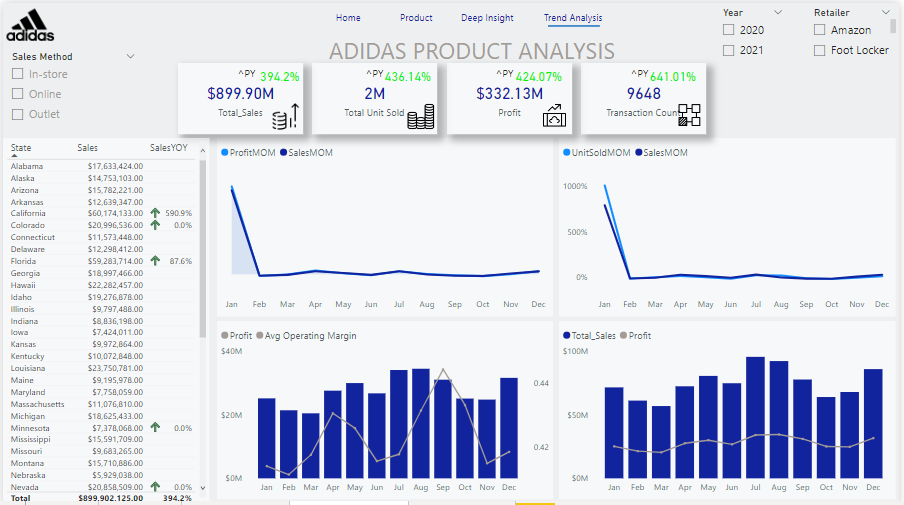

The dashboard page shown, as its layout file describes it:
{"tool":"powerbi","page":{"name":"Trend Analysis","canvas":[1280,720],"ordinal":3},"visuals":[{"type":"image","box":[0,0,78,62.4],"z":0},{"type":"group","id":"g1","title":"Group 3","box":[442.2,0,422.4,39.7],"z":0,"group":"g2"},{"type":"shape","box":[778.1,26.9,73.7,11.3],"z":1000,"group":"g2"},{"type":"slicer","fields":{"Values":["Data Sales Adidas.Sales Method"]},"box":[0,62.4,201.3,127.6],"z":1000},{"type":"group","id":"g2","title":"Group 4","box":[442.2,0,422.4,39.7],"z":2000},{"type":"textbox","box":[442.2,39.7,455,58.1],"z":3000},{"type":"areaChart","title":"Sales by Product","fields":{"Category":["Calendar.Month"],"Y":["Data Sales Adidas.ProfitMOM","Data Sales Adidas.SalesMOM"]},"box":[306.1,192.8,480.5,255.1],"z":4000},{"type":"lineChart","title":"Sales by State","fields":{"Y":["Data Sales Adidas.UnitSoldMOM","Data Sales Adidas.SalesMOM"],"Category":["Calendar.Month"]},"box":[794.4,192.8,481,255.1],"z":5000},{"type":"slicer","fields":{"Values":["Calendar.Year"]},"box":[1016.2,0,110.6,85],"z":6000},{"type":"lineStackedColumnComboChart","title":"Sales by State","fields":{"Category":["Calendar.Month"],"Y":["Data Sales Adidas.Total_Sales"],"Y2":["Data Sales Adidas.Profit"]},"box":[794.4,455,481,255.1],"z":7000},{"type":"card","fields":{"Values":["Data Sales Adidas.Total_Sales"]},"box":[249.4,85,178.6,102],"z":8000},{"type":"image","box":[379.8,137.5,48.2,49.6],"z":9000},{"type":"actionButton","box":[442.2,0,100.6,39.7],"z":10000,"group":"g1"},{"type":"card","fields":{"Values":["Data Sales Adidas.Total Unit Sold"]},"box":[441.7,85,178.6,102],"z":10000},{"type":"actionButton","box":[540,0,100.6,39.7],"z":11000,"group":"g1"},{"type":"card","fields":{"Values":["Data Sales Adidas.Profit"]},"box":[634,85,178.6,102],"z":11000},{"type":"actionButton","box":[640.6,0,100.6,39.7],"z":12000,"group":"g1"},{"type":"card","fields":{"Values":["Data Sales Adidas.Transaction Count"]},"box":[826.3,85,178.6,102],"z":12000},{"type":"actionButton","box":[763.9,0,100.6,39.7],"z":13000,"group":"g1"},{"type":"image","box":[572.6,137.5,48.2,49.6],"z":13000},{"type":"image","box":[763.9,136.1,46.8,49.6],"z":14000},{"type":"image","box":[956.7,136.1,46.8,49.6],"z":15000},{"type":"card","fields":{"Values":["Data Sales Adidas.SalesYOY"]},"box":[348.7,85,93.5,38.3],"z":16000},{"type":"card","fields":{"Values":["Data Sales Adidas.UnitSoldYOY"]},"box":[531.5,85,93.5,38.3],"z":17000},{"type":"card","fields":{"Values":["Data Sales Adidas.ProfitYOY"]},"box":[718.6,85,93.5,38.3],"z":18000},{"type":"card","fields":{"Values":["Data Sales Adidas.TransCountYOY"]},"box":[909.9,85,93.5,38.3],"z":19000},{"type":"textbox","box":[323.1,85,49.6,34],"z":20000},{"type":"textbox","box":[506,85,49.6,34],"z":21000},{"type":"textbox","box":[691.7,85,49.6,34],"z":22000},{"type":"textbox","box":[884.4,85,49.6,34],"z":23000},{"type":"lineStackedColumnComboChart","title":"Sales by State","fields":{"Category":["Calendar.Month"],"Y":["Data Sales Adidas.Profit"],"Y2":["Data Sales Adidas.Avg Operating Margin"]},"box":[306.1,455,480.5,255.1],"z":24000},{"type":"tableEx","title":"Sales by Product","fields":{"Values":["Location.State","Data Sales Adidas.Total_Sales","Data Sales Adidas.SalesYOY"]},"box":[0,192.8,294.8,527.2],"z":25000},{"type":"slicer","fields":{"Values":["Data Sales Adidas.Retailer"]},"box":[1145.2,0,134.6,85],"z":26000}]}

Visuals, with their boxes on the page's 1280x720 design canvas (x1, y1, x2, y2). These are canvas units, not pixel positions in the 904x505 screenshot, which may show the page scaled, cropped or inside an application window:
image: select_region(0, 0, 78, 62)
"Group 3" group: select_region(442, 0, 865, 40)
shape: select_region(778, 27, 852, 38)
slicer - Data Sales Adidas.Sales Method: select_region(0, 62, 201, 190)
"Group 4" group: select_region(442, 0, 865, 40)
textbox: select_region(442, 40, 897, 98)
"Sales by Product" areaChart: select_region(306, 193, 787, 448)
"Sales by State" lineChart: select_region(794, 193, 1275, 448)
slicer - Calendar.Year: select_region(1016, 0, 1127, 85)
"Sales by State" lineStackedColumnComboChart: select_region(794, 455, 1275, 710)
card - Data Sales Adidas.Total_Sales: select_region(249, 85, 428, 187)
image: select_region(380, 138, 428, 187)
actionButton: select_region(442, 0, 543, 40)
card - Data Sales Adidas.Total Unit Sold: select_region(442, 85, 620, 187)
actionButton: select_region(540, 0, 641, 40)
card - Data Sales Adidas.Profit: select_region(634, 85, 813, 187)
actionButton: select_region(641, 0, 741, 40)
card - Data Sales Adidas.Transaction Count: select_region(826, 85, 1005, 187)
actionButton: select_region(764, 0, 864, 40)
image: select_region(573, 138, 621, 187)
image: select_region(764, 136, 811, 186)
image: select_region(957, 136, 1004, 186)
card - Data Sales Adidas.SalesYOY: select_region(349, 85, 442, 123)
card - Data Sales Adidas.UnitSoldYOY: select_region(532, 85, 625, 123)
card - Data Sales Adidas.ProfitYOY: select_region(719, 85, 812, 123)
card - Data Sales Adidas.TransCountYOY: select_region(910, 85, 1003, 123)
textbox: select_region(323, 85, 373, 119)
textbox: select_region(506, 85, 556, 119)
textbox: select_region(692, 85, 741, 119)
textbox: select_region(884, 85, 934, 119)
"Sales by State" lineStackedColumnComboChart: select_region(306, 455, 787, 710)
"Sales by Product" tableEx: select_region(0, 193, 295, 720)
slicer - Data Sales Adidas.Retailer: select_region(1145, 0, 1280, 85)
